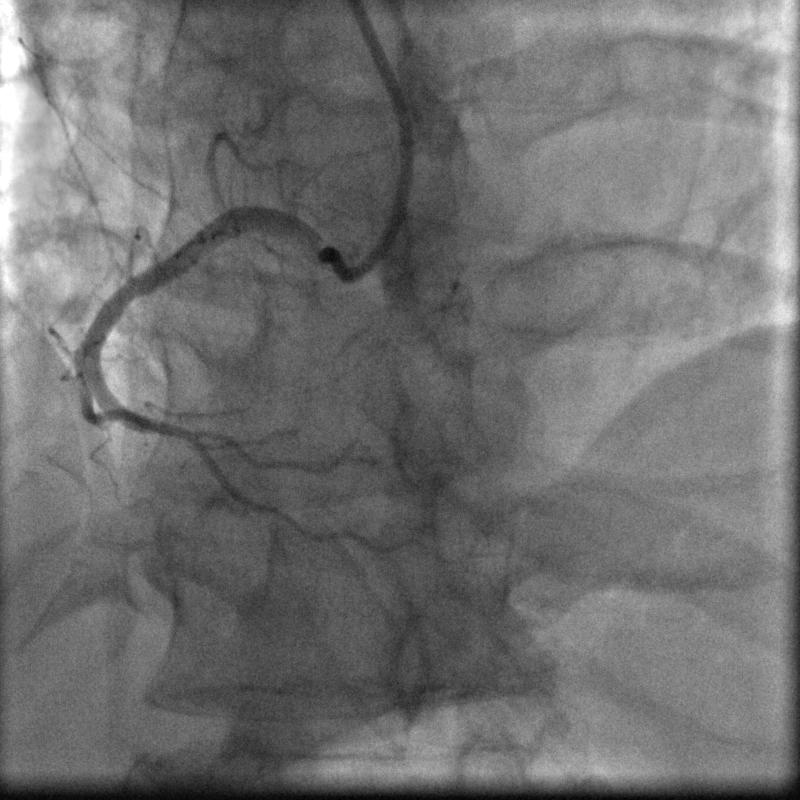Stenosis: (125, 409, 194, 443)
